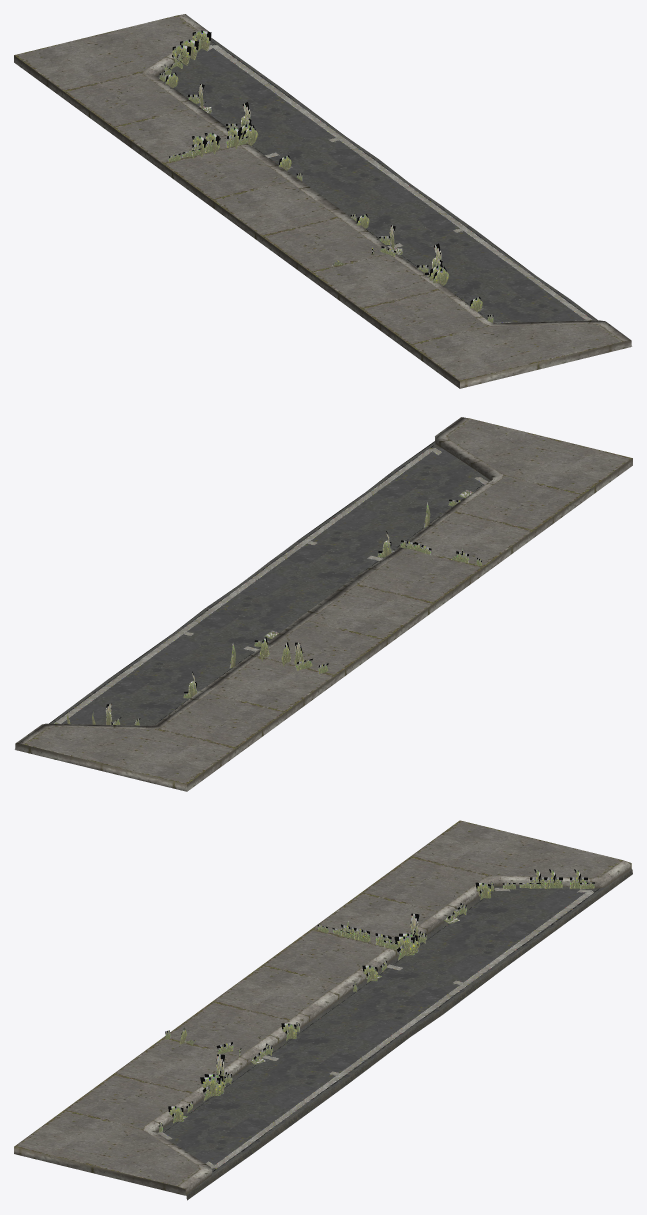
The model's file is road_parking_layby_6x27.glb.
3 views of the same model, one above another, from view 1: azimuth 30°, elevation 25°; view 2: azimuth 150°, elevation 25°; view 3: azimuth 330°, elevation 25° (orthographic).
Parts seen in each view (by area): view 1: road_parking_layby_6x27_LOD0, cracks_grass_e_temperate (×2), cracks_grass_h_temperate (×2); view 2: road_parking_layby_6x27_LOD0, cracks_grass_h_temperate; view 3: road_parking_layby_6x27_LOD0, cracks_grass_e_temperate (×2), cracks_grass_h_temperate (×2).
Boxes of the visible parts, bbox=[...] form: road_parking_layby_6x27_LOD0: bbox=[14, 14, 631, 388]; cracks_grass_e_temperate (×2): bbox=[159, 72, 493, 322]; cracks_grass_h_temperate (×2): bbox=[164, 30, 248, 162]; road_parking_layby_6x27_LOD0: bbox=[15, 417, 632, 791]; cracks_grass_h_temperate: bbox=[256, 637, 328, 673]; road_parking_layby_6x27_LOD0: bbox=[14, 820, 632, 1200]; cracks_grass_e_temperate (×2): bbox=[158, 881, 494, 1132]; cracks_grass_h_temperate (×2): bbox=[317, 869, 594, 949].
Bounding box in the file's own units: 6.1 × 1.4 × 27.
4 materials, 4 textured.
